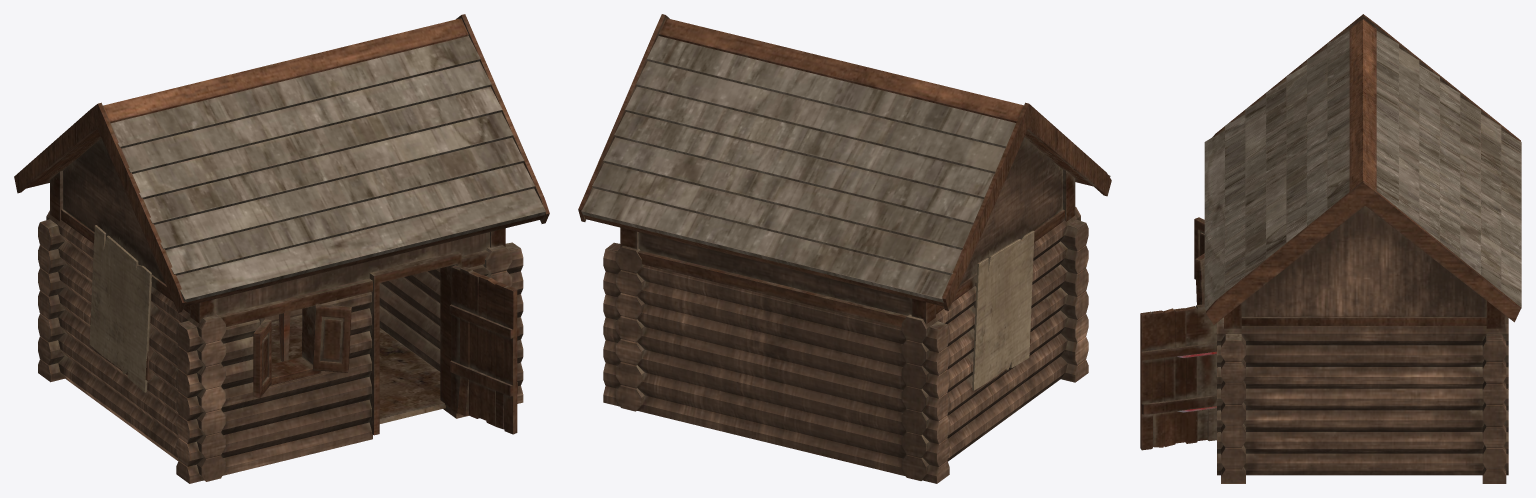
The model's file is Cabin.glb.
3 views of the same model, side by side, from view 1: azimuth 30°, elevation 25°; view 2: azimuth 150°, elevation 25°; view 3: azimuth 270°, elevation 25° (orthographic). The views are drawn at different scales.
Parts seen in each view (by area): view 1: Loww_Poly_house2:Mesh_initialShadingGroup_0; view 2: Loww_Poly_house2:Mesh_initialShadingGroup_0; view 3: Loww_Poly_house2:Mesh_initialShadingGroup_0.
Boxes of the visible parts, x1,y1,x2,y2 form: Loww_Poly_house2:Mesh_initialShadingGroup_0: [14, 14, 549, 483]; Loww_Poly_house2:Mesh_initialShadingGroup_0: [578, 14, 1111, 483]; Loww_Poly_house2:Mesh_initialShadingGroup_0: [1140, 14, 1521, 483].
Size of the model in its own units: 0.0499 by 0.0425 by 0.0476.
1 material, 1 textured.
